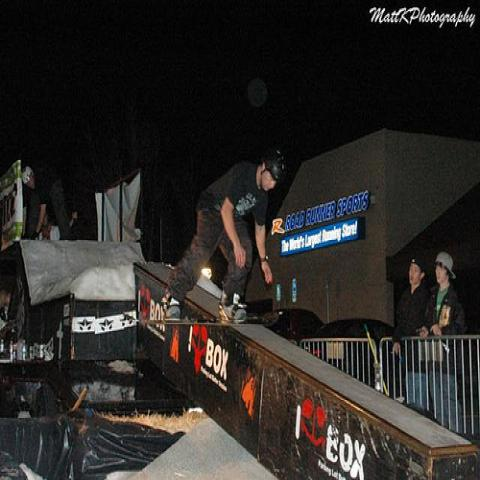car: (311, 318, 395, 363)
